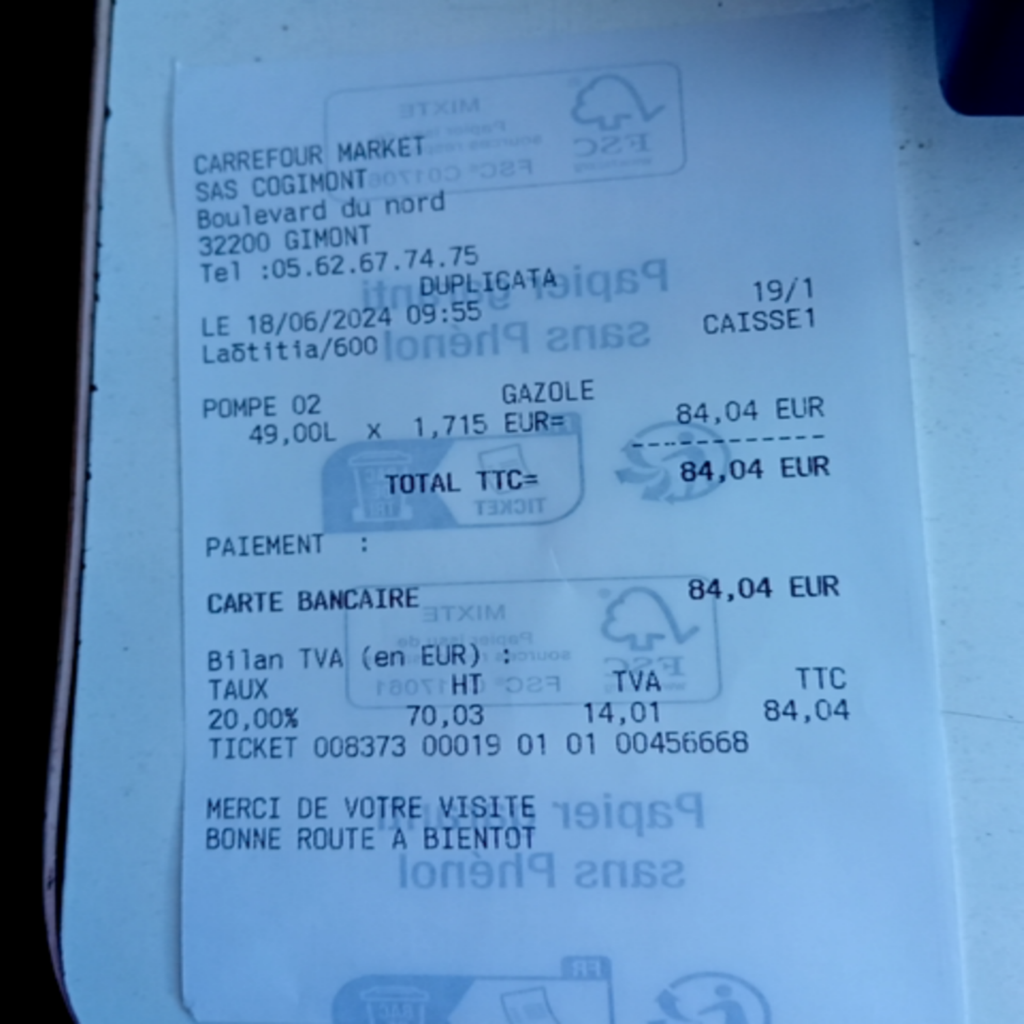recipt: (166, 6, 969, 1001)
